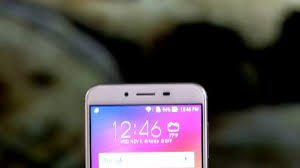asus: (79, 81, 212, 168)
